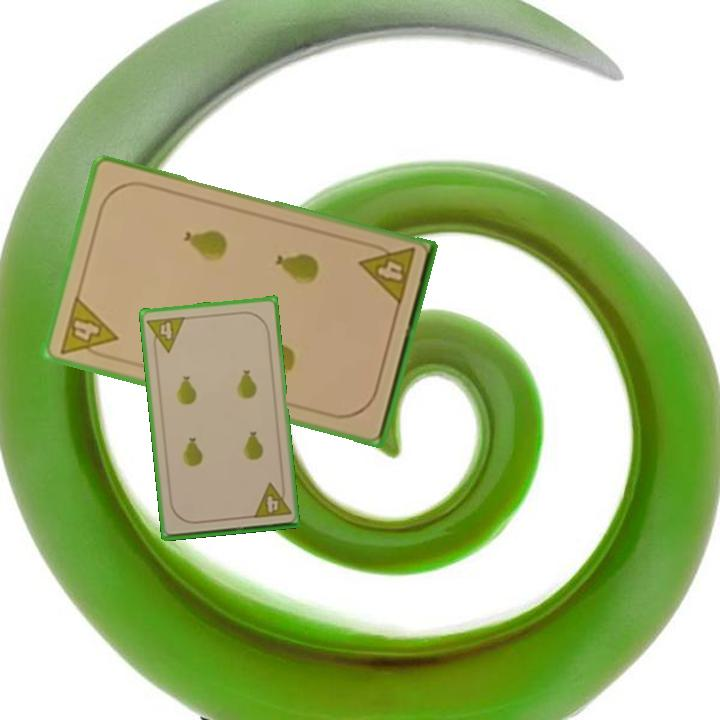4p: (55, 292, 119, 363), (356, 239, 418, 309), (144, 313, 188, 356), (249, 479, 294, 521)
